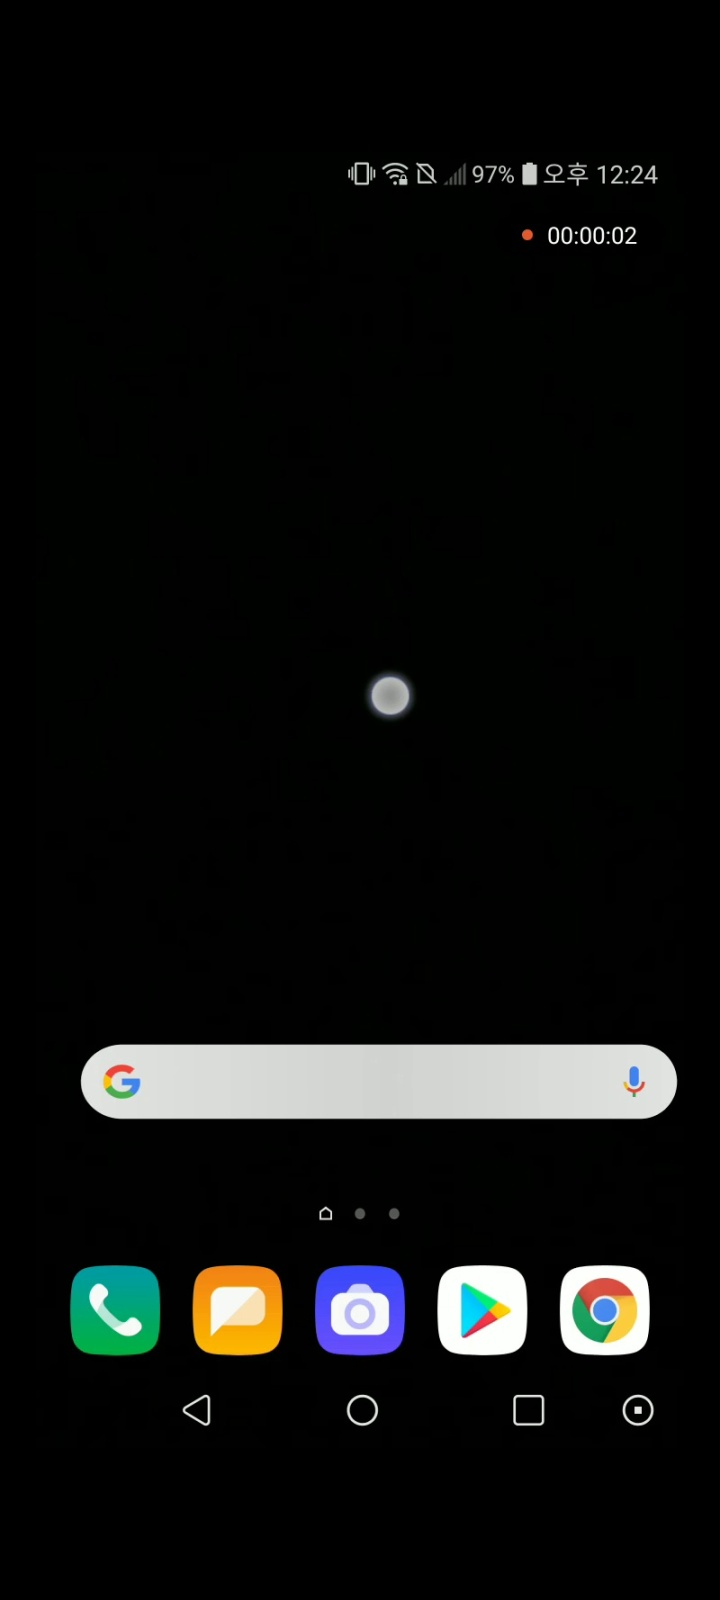Cursor: (369, 674, 414, 719)
